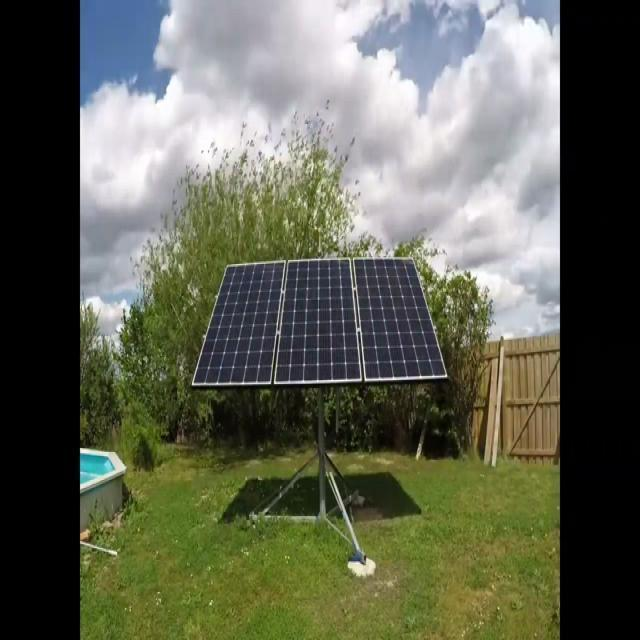Normal Solar Panel: (193, 262, 286, 387), (355, 259, 448, 383), (277, 261, 363, 385)
